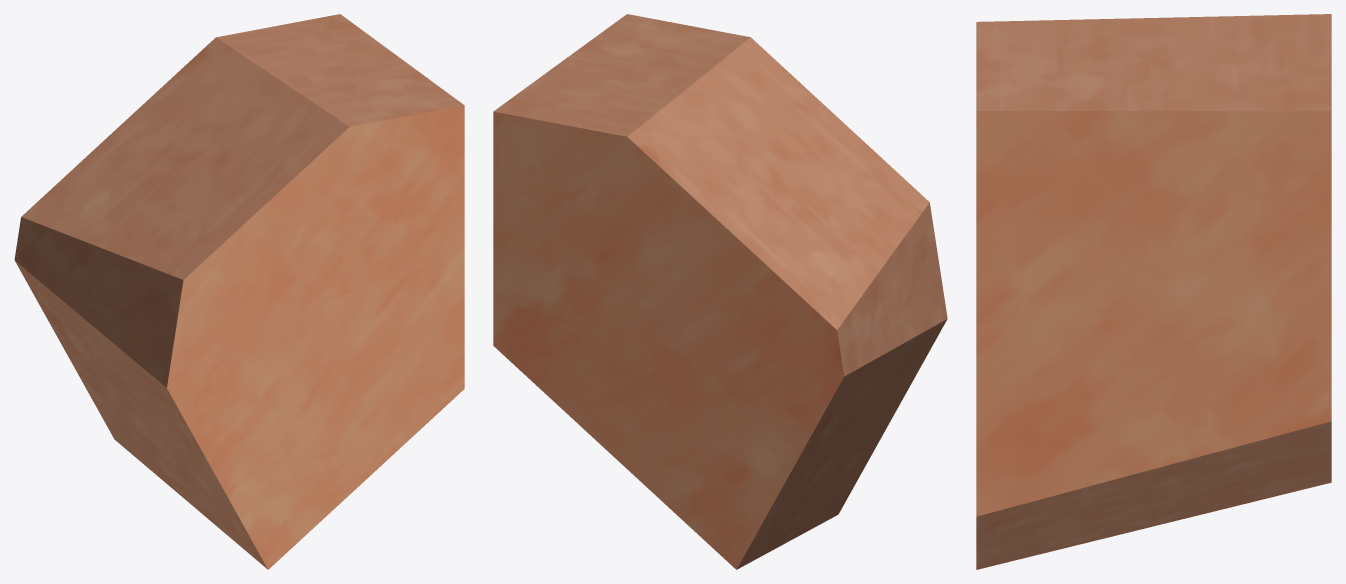
Rendered from towngate_s06.fbx.
3 views of the same model, side by side, from view 1: azimuth 30°, elevation 25°; view 2: azimuth 150°, elevation 25°; view 3: azimuth 270°, elevation 25° (orthographic). The views are drawn at different scales.
Visible parts, largest first — view 1: towngate_s06; view 2: towngate_s06; view 3: towngate_s06.
Boxes of the visible parts, bbox=[...] form: towngate_s06: bbox=[14, 14, 464, 569]; towngate_s06: bbox=[493, 14, 947, 569]; towngate_s06: bbox=[976, 14, 1331, 569].
Bounding box in the file's own units: 4.54 × 5.65 × 3.
